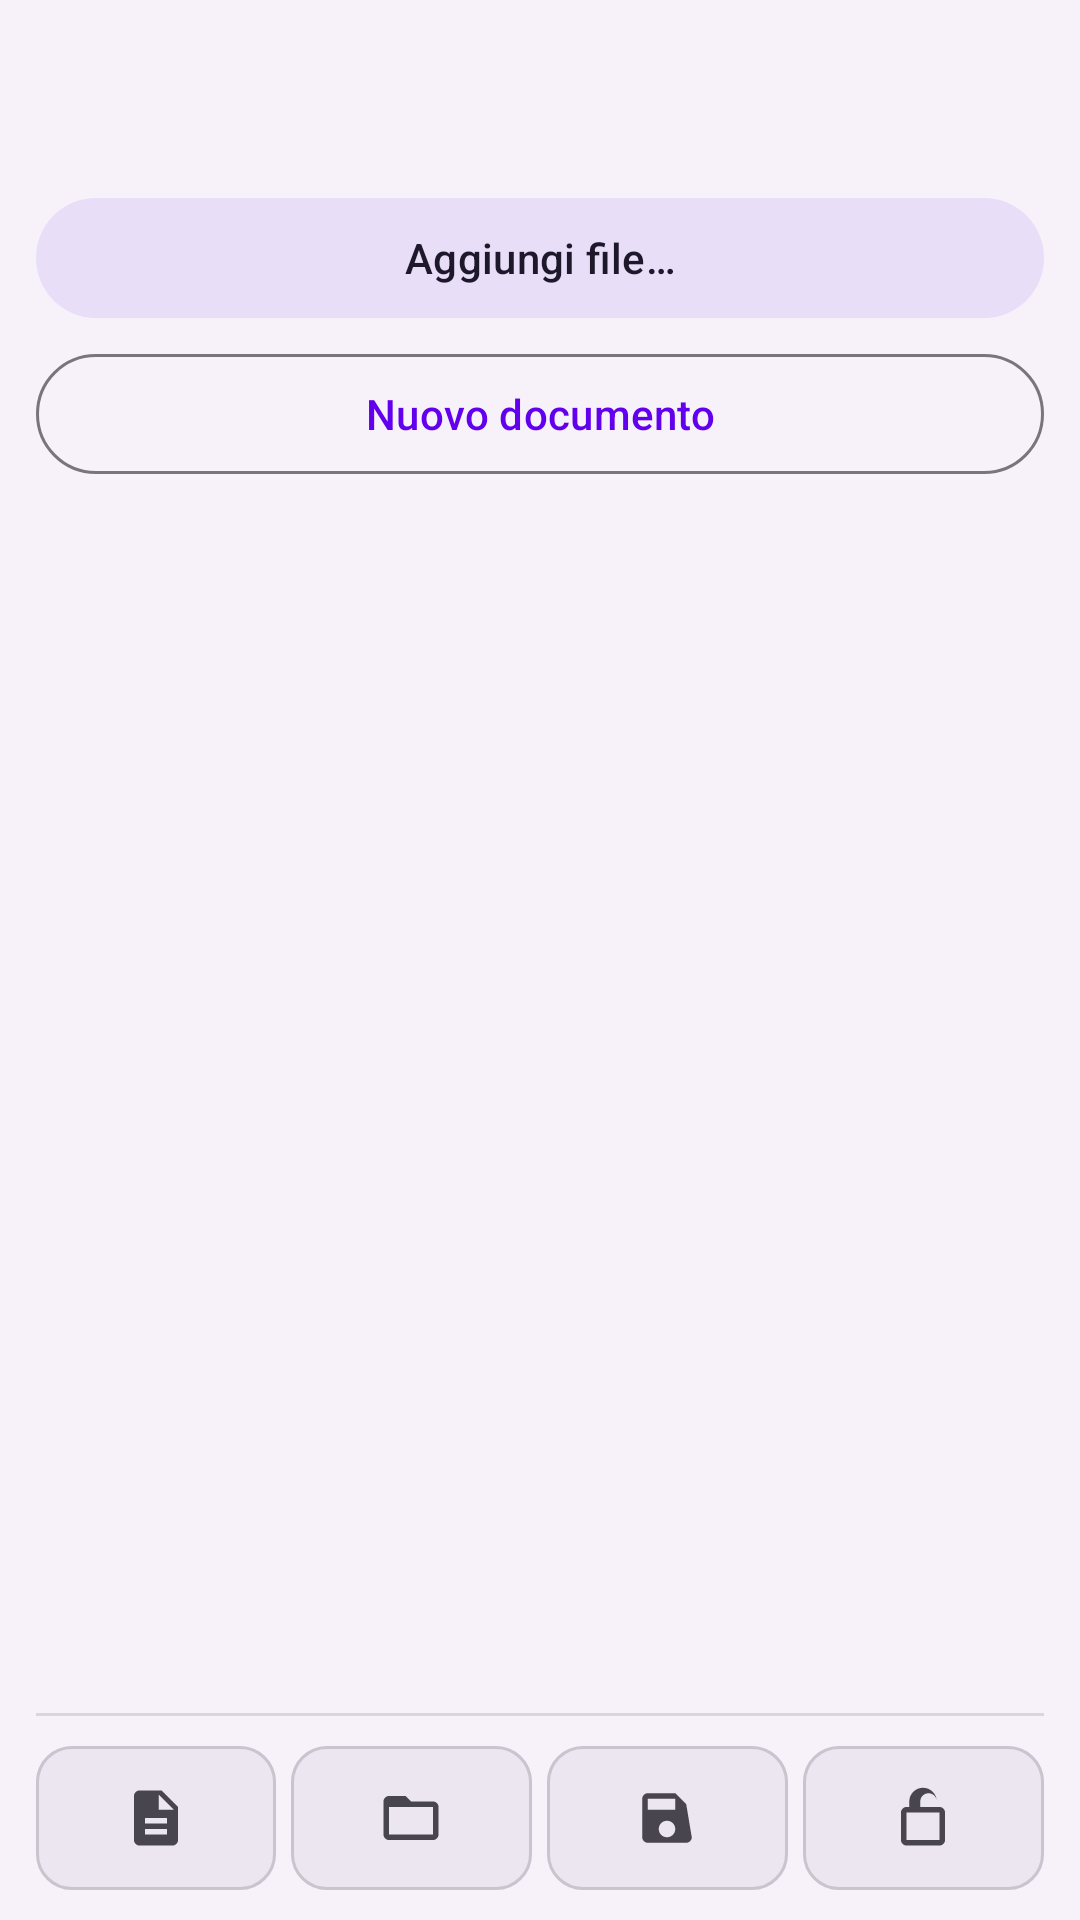

Named icons in this screenshot (1080 x 1920) and their centers, point (x, y):
Apri playlist JSON: point (411, 1818)
Blocca playlist (pannello aperto): point (923, 1818)
Nuova playlist: point (156, 1818)
Salva playlist JSON: point (667, 1818)
